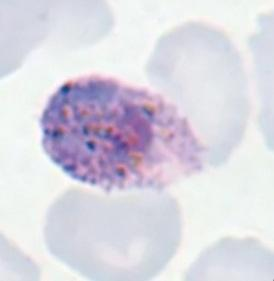Infected: (38, 72, 205, 190)
Uninfected: (147, 21, 250, 170), (43, 187, 182, 281)
